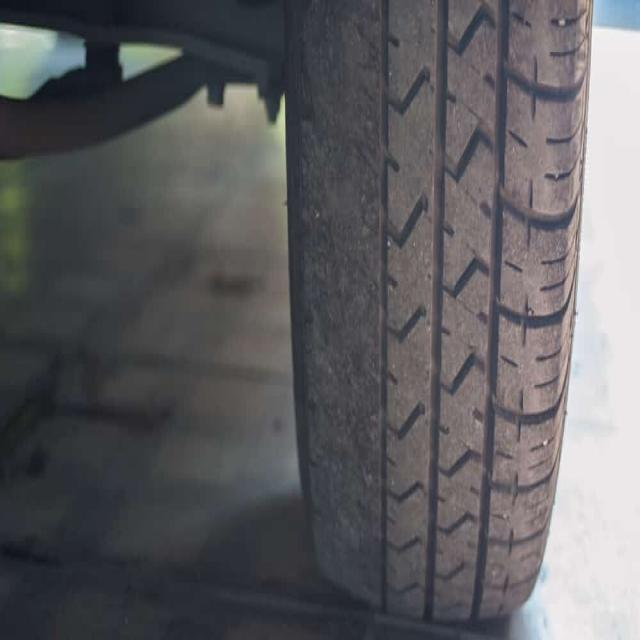Flat spots: (286, 0, 374, 606)
Non-defective: (380, 0, 571, 626)
